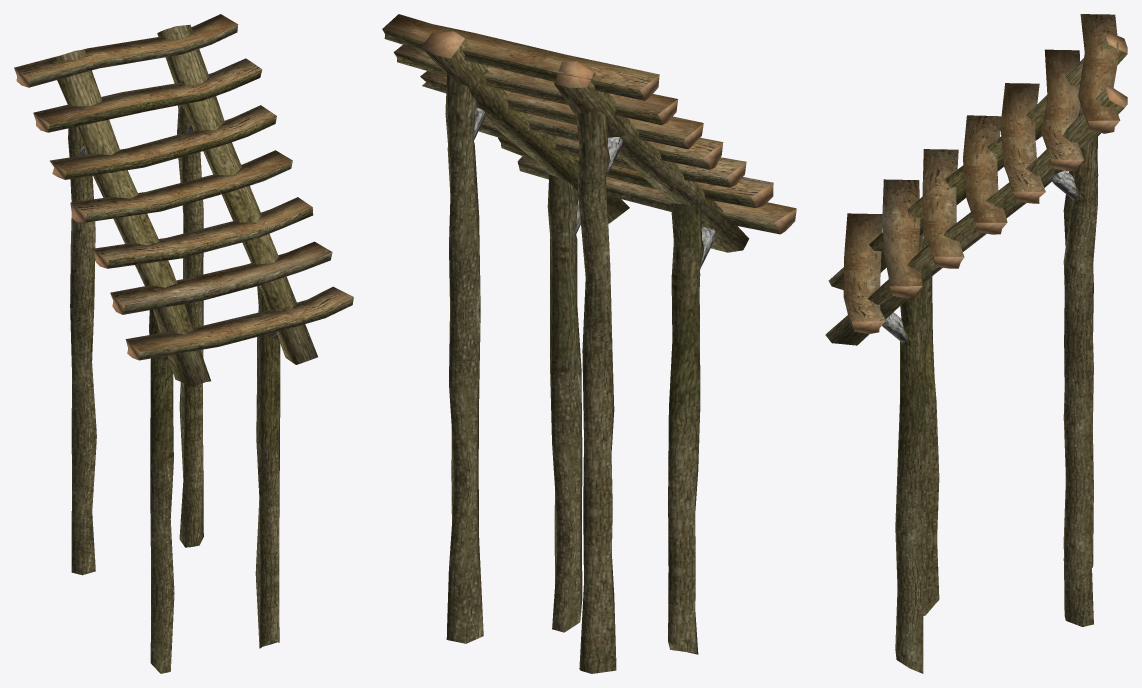
The model's file is House_01_steps_wooden.obj.
3 renders of one model, left to right at view 1: azimuth 30°, elevation 25°; view 2: azimuth 150°, elevation 25°; view 3: azimuth 270°, elevation 25°, orthographic. The views are drawn at different scales.
Visible parts, largest first — view 1: stairs; view 2: stairs; view 3: stairs.
Boxes of the visible parts, x1,y1,x2,y2 form: stairs: [14, 14, 353, 673]; stairs: [382, 14, 796, 673]; stairs: [825, 14, 1127, 673].
Bounding box in the file's own units: 1.86 × 4.52 × 2.13.
